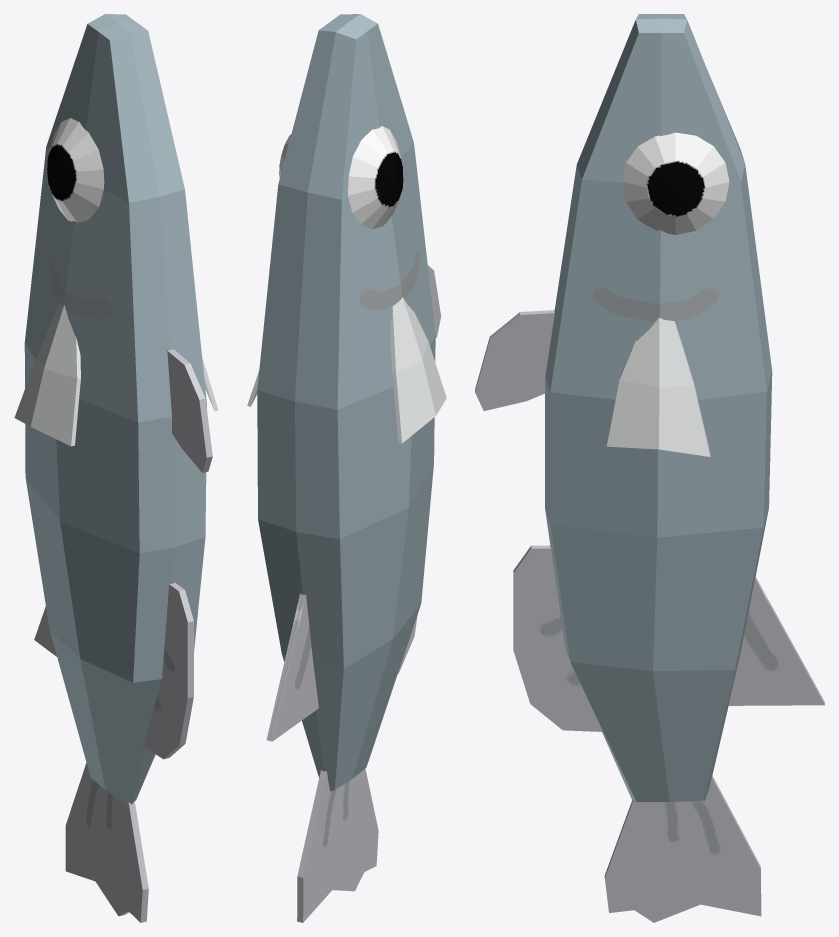
Rendered from MiniFish.fbx.
The picture shows the model from 3 angles, left to right: view 1: azimuth 30°, elevation 25°; view 2: azimuth 150°, elevation 25°; view 3: azimuth 270°, elevation 25°; orthographic projection. The views are drawn at different scales.
Parts seen in each view (by area): view 1: Cube; view 2: Cube; view 3: Cube.
Boxes of the visible parts, x1,y1,x2,y2 form: Cube: (14, 14, 218, 922); Cube: (247, 14, 446, 922); Cube: (475, 14, 824, 922).
Size of the model in its own units: 79.59 by 383 by 134.
